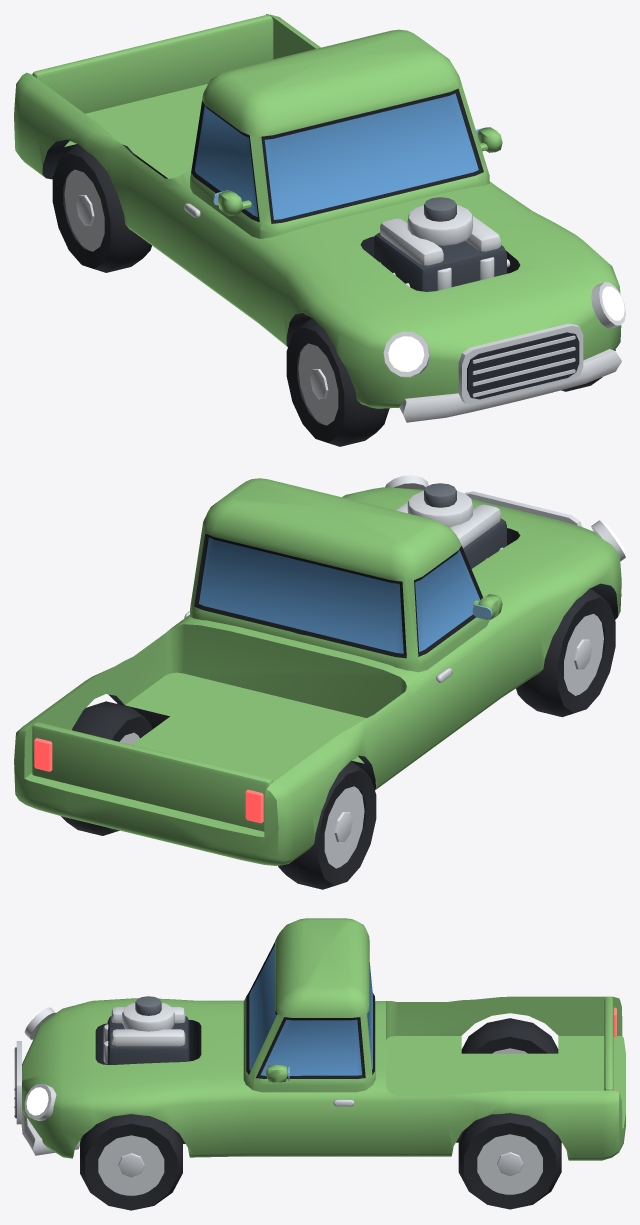
File: picape_verde_motor.glb
3 views of the same model, one above another, from view 1: azimuth 30°, elevation 25°; view 2: azimuth 150°, elevation 25°; view 3: azimuth 270°, elevation 25° (orthographic). The views are drawn at different scales.
Visible parts, largest first — view 1: picape_verde_motor, porta_dianteira_esq, tampa_cacamba, roda_traseira_esq, roda_dianteira_esq; view 2: picape_verde_motor, tampa_cacamba, porta_dianteira_esq, roda_dianteira_esq, roda_traseira_esq, roda_traseira_dir; view 3: picape_verde_motor, porta_dianteira_dir, roda_traseira_dir, roda_dianteira_dir, roda_traseira_esq, tampa_cacamba.
Part boxes in pixels (bbox=[...]): picape_verde_motor: bbox=[14, 14, 625, 422]; porta_dianteira_esq: bbox=[179, 101, 269, 316]; tampa_cacamba: bbox=[32, 15, 273, 113]; roda_traseira_esq: bbox=[52, 144, 151, 272]; roda_dianteira_esq: bbox=[286, 318, 389, 446]; picape_verde_motor: bbox=[14, 475, 625, 865]; tampa_cacamba: bbox=[32, 722, 272, 831]; porta_dianteira_esq: bbox=[406, 546, 500, 749]; roda_dianteira_esq: bbox=[516, 588, 615, 717]; roda_traseira_esq: bbox=[278, 761, 376, 889]; roda_traseira_dir: bbox=[61, 701, 152, 835]; picape_verde_motor: bbox=[14, 918, 625, 1160]; porta_dianteira_dir: bbox=[254, 1014, 364, 1154]; roda_traseira_dir: bbox=[458, 1113, 561, 1209]; roda_dianteira_dir: bbox=[80, 1114, 182, 1210]; roda_traseira_esq: bbox=[461, 1018, 558, 1053]; tampa_cacamba: bbox=[604, 996, 616, 1091].
Size of the model in its own units: 1.95 by 1.77 by 4.64.
Materials: 4 (1 with a texture image).
